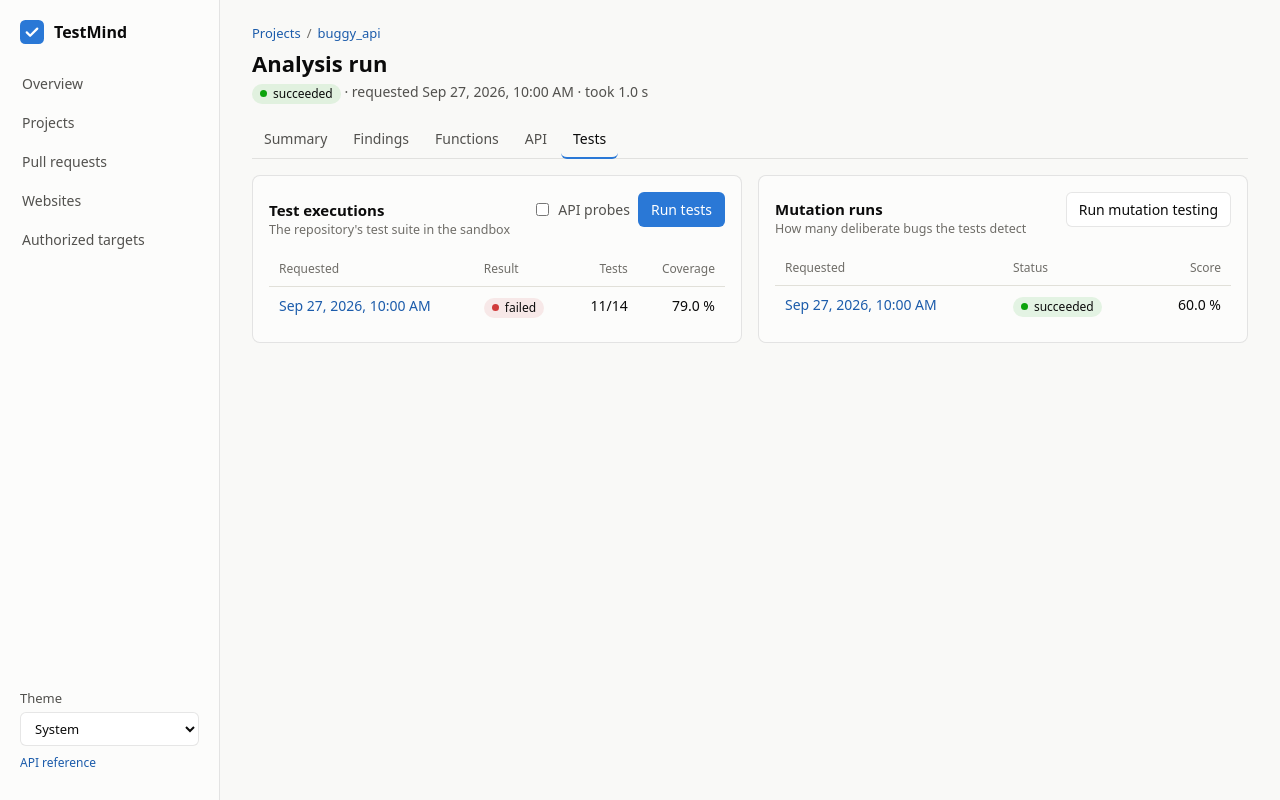
it: Run › starts test executions and mutation runs
The width and height of the screenshot is (1280, 800).
expect the text "11/14" is shown: met, box x1=570 y1=286 x2=638 y2=326
expect the text "60.0 %" is shown: met, box x1=1147 y1=286 x2=1231 y2=324
Click the button "Run mutation testing" at (1148, 209), box x1=1066 y1=192 x2=1231 y2=226
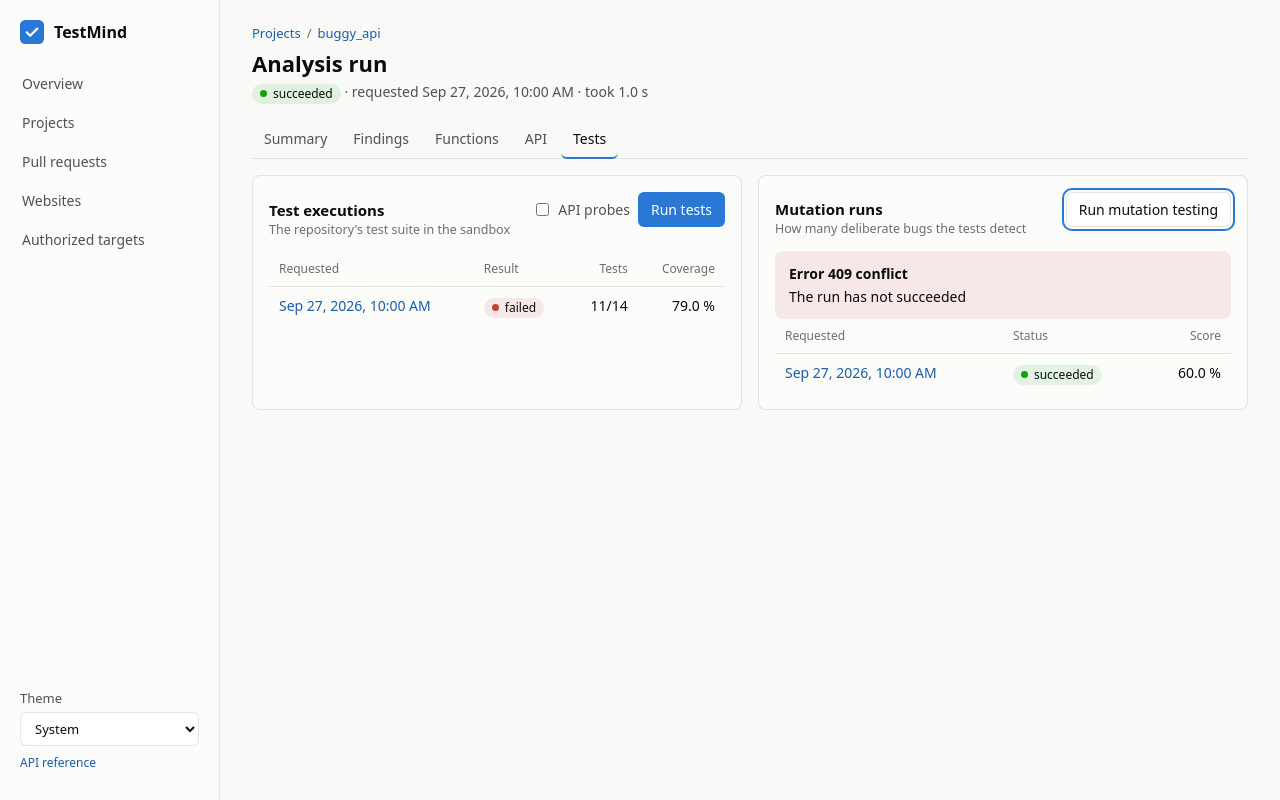
expect the text "The run has not succeeded" is shown: met, box x1=789 y1=287 x2=966 y2=306
Click the checkbox labelled "API probes" at (543, 209), box x1=536 y1=202 x2=549 y2=216
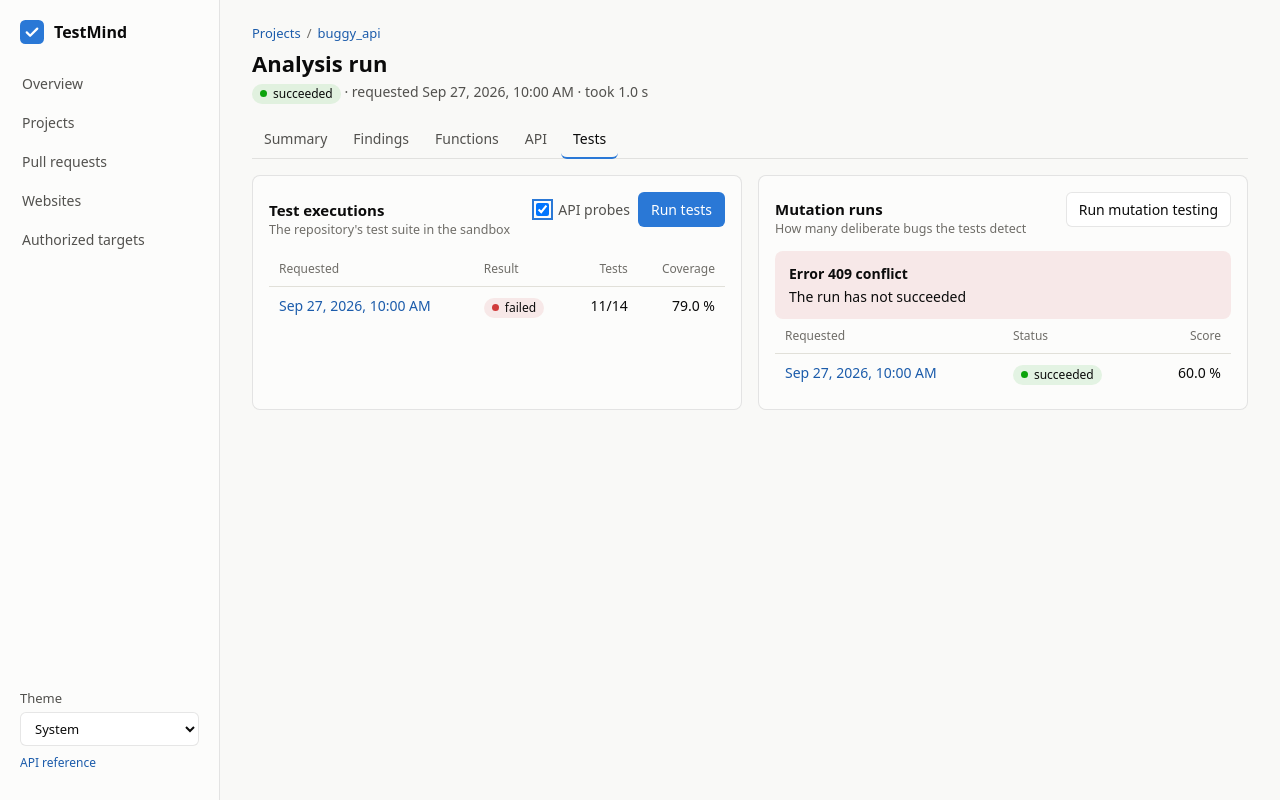
Click the button "Run tests" at (681, 209), box x1=638 y1=192 x2=725 y2=226
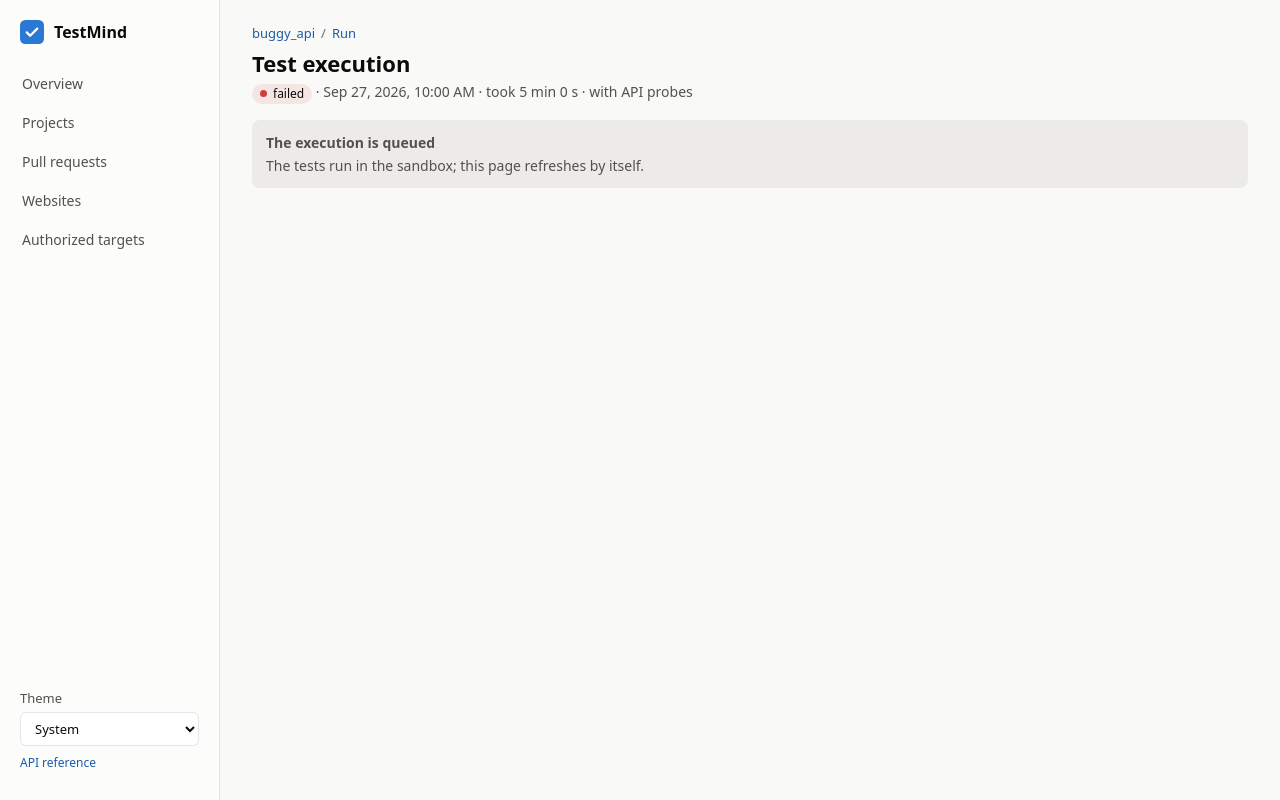
expect the text "The execution is queued" is shown: met, box x1=266 y1=132 x2=435 y2=152
